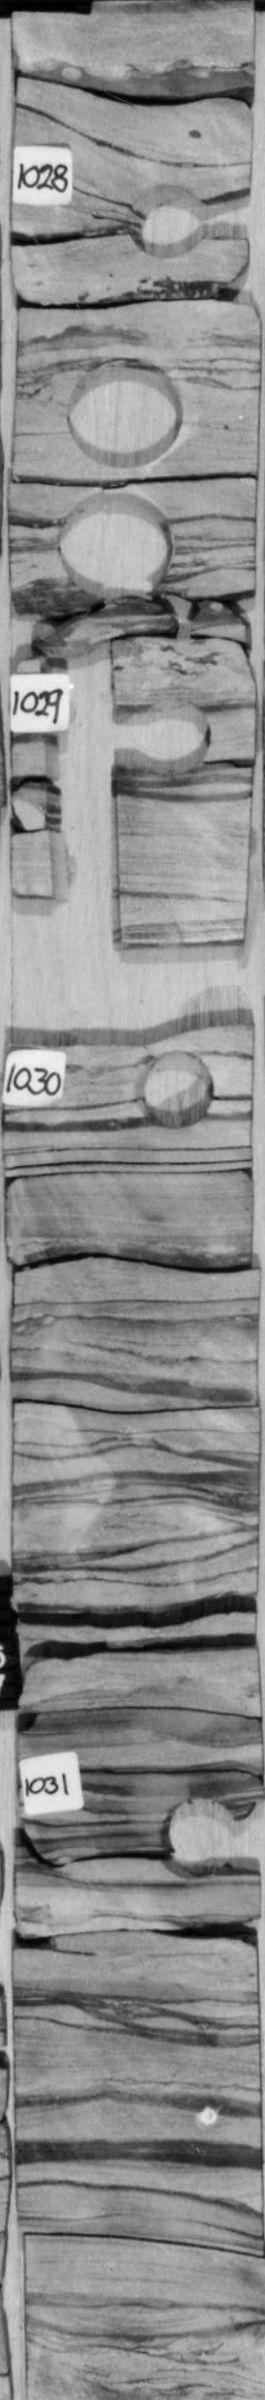hplug: (149, 1786, 251, 1883), (121, 693, 221, 788), (136, 1042, 218, 1137), (123, 178, 211, 262)
scal: (58, 347, 193, 471), (54, 488, 178, 602)
vplug: (37, 637, 129, 947)
